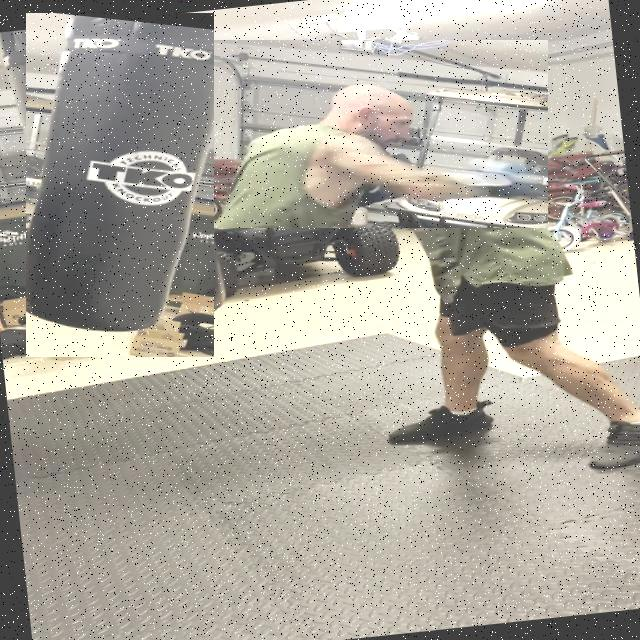punch: (212, 40, 548, 228)
